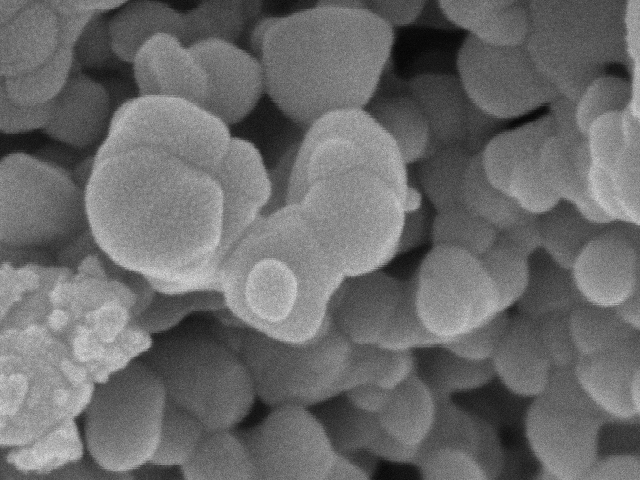nano: (242, 256, 304, 324)
